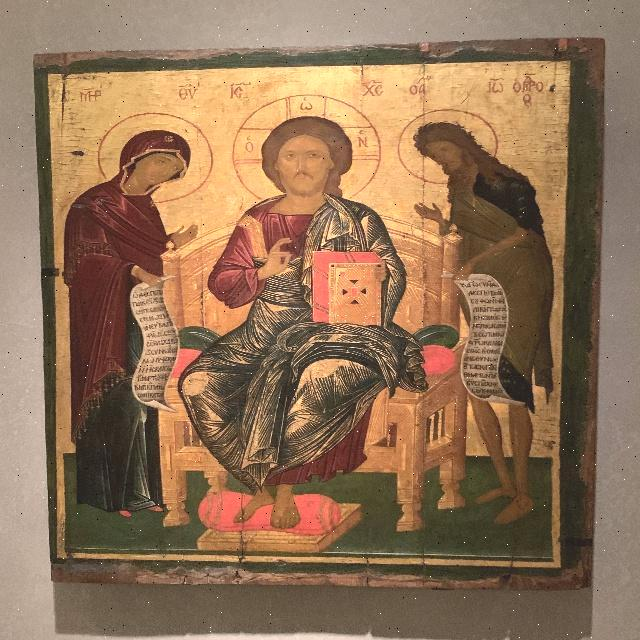aura: (234, 94, 383, 200), (99, 109, 211, 205), (400, 106, 502, 184)
book: (312, 252, 385, 326)
christ: (208, 86, 399, 547)
hand: (261, 237, 299, 280)
mary: (63, 110, 216, 519)
saint: (411, 104, 546, 512)
scroll: (450, 274, 523, 407), (132, 276, 183, 411)
